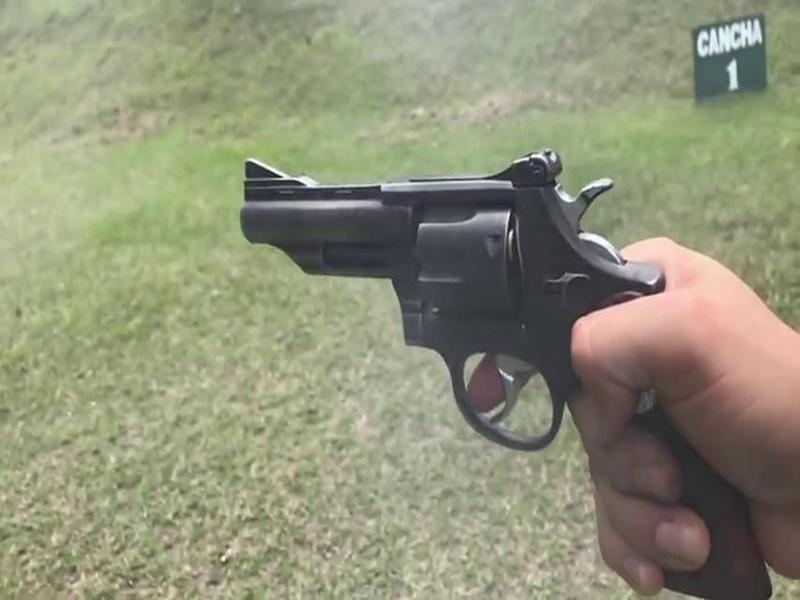Revolver: (234, 127, 687, 596)
